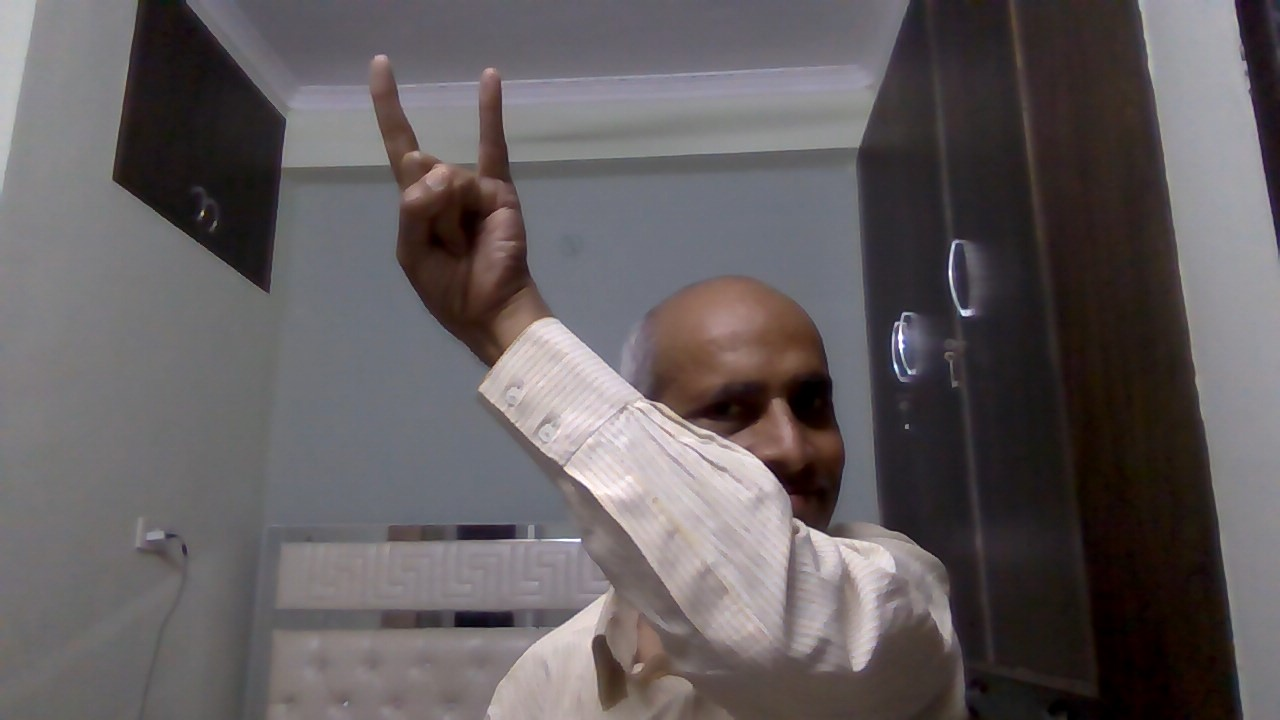Select All: (352, 48, 550, 327)
